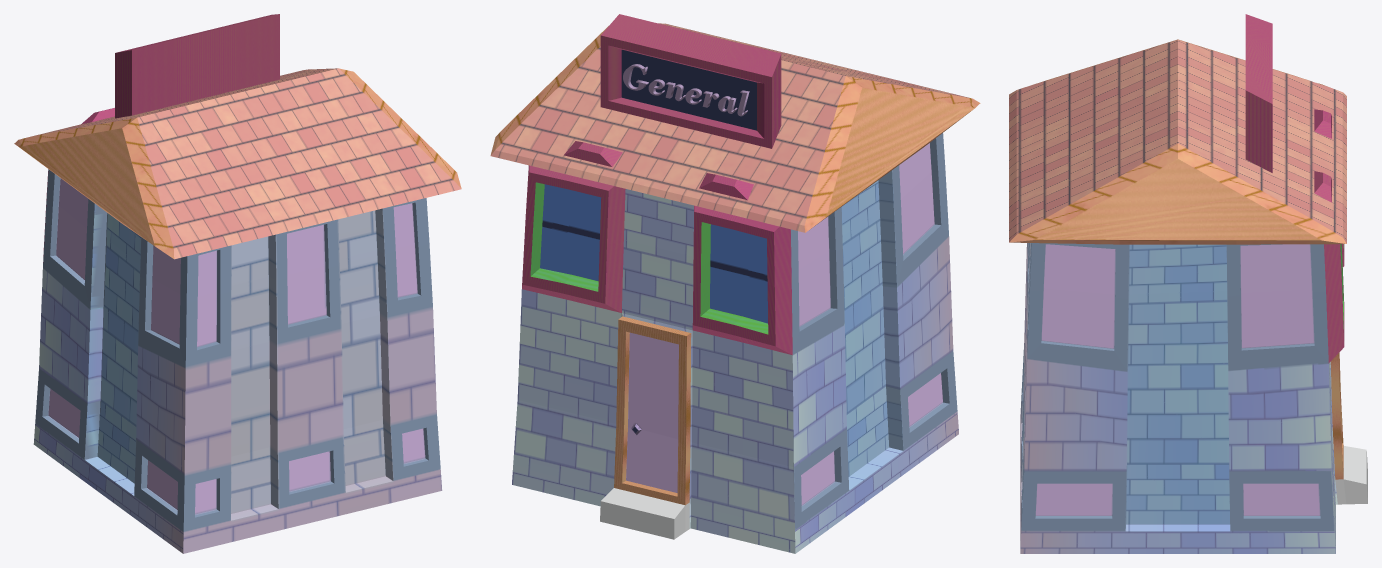
Rendered from Shop Tall.fbx.
3 views of the same model, side by side, from view 1: azimuth 30°, elevation 25°; view 2: azimuth 150°, elevation 25°; view 3: azimuth 270°, elevation 25° (orthographic). The views are drawn at different scales.
Parts seen in each view (by area): view 1: Shop Tall; view 2: Shop Tall; view 3: Shop Tall.
Boxes of the visible parts, x1=… form: Shop Tall: x1=14, y1=14, x2=461, y2=553; Shop Tall: x1=490, y1=14, x2=980, y2=553; Shop Tall: x1=1009, y1=14, x2=1367, y2=553.
Bounding box in the file's own units: 233 × 304 × 227.
